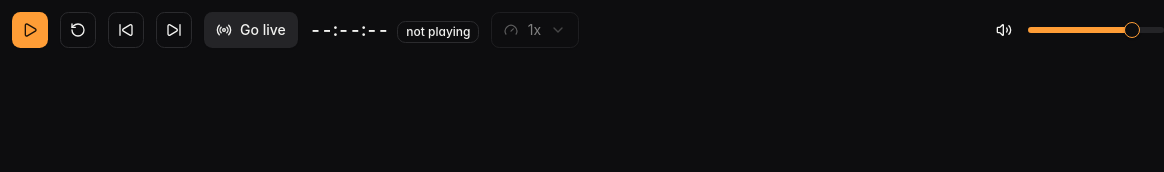
back 30 seconds › explains itself on hover
Hover over the button named "Back 30 seconds" at [78, 30], box left=60, top=12, right=96, bottom=48
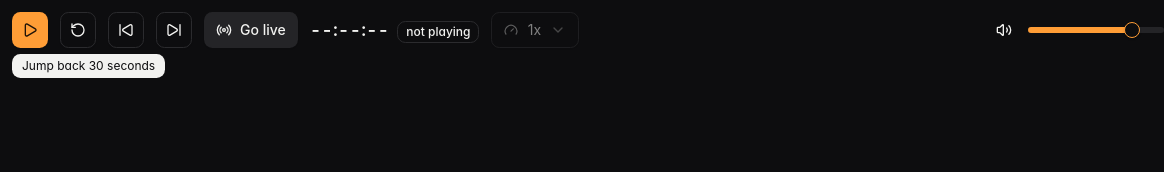
Result: the tooltip reads "Jump back 30 seconds" at left=22, top=58, right=155, bottom=73
